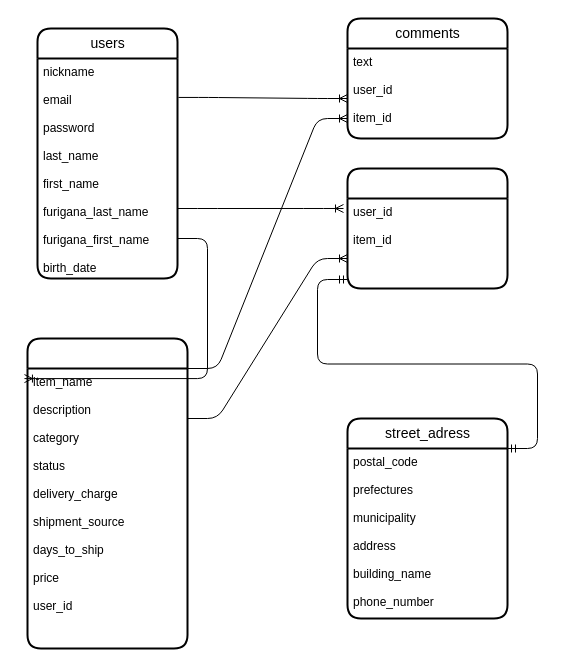
Image size: 565x666. Some labels were removed from this diagram. Here are the shapes that lost their labels. From the top down, the box of each, then its label:
(346, 167, 508, 289): ordesrs
(26, 337, 188, 649): items
